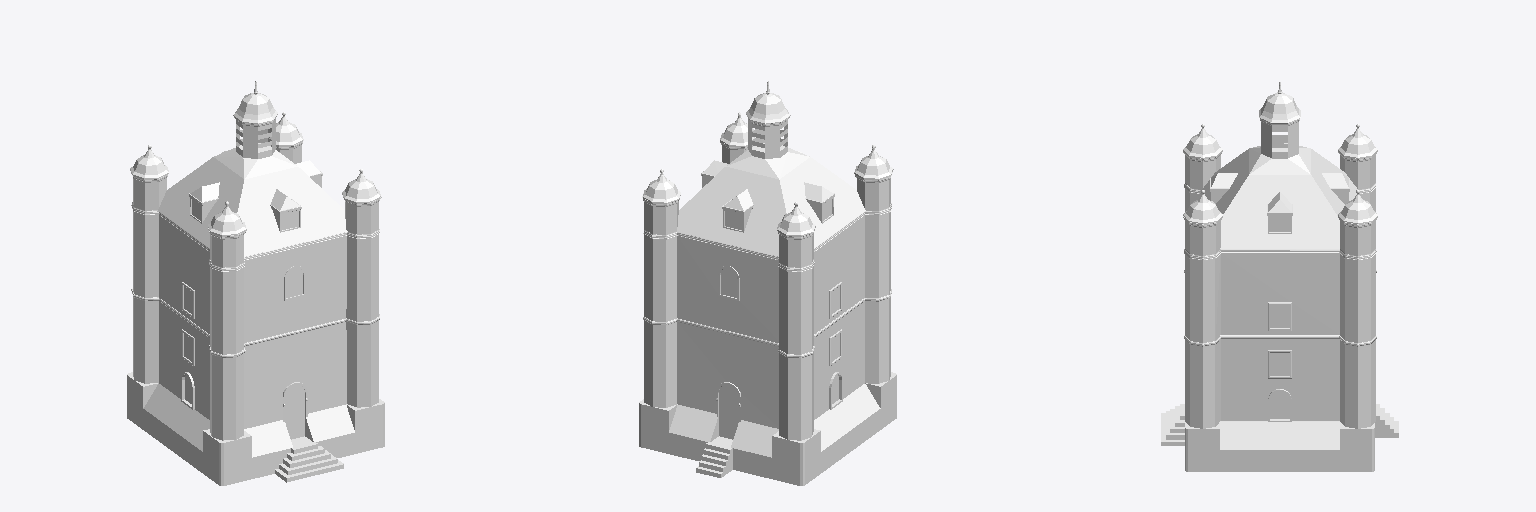
File: Castle.obj
3 views of the same model, side by side, from view 1: azimuth 30°, elevation 25°; view 2: azimuth 150°, elevation 25°; view 3: azimuth 270°, elevation 25° (orthographic).
Parts seen in each view (by area): view 1: Mesh_Object; view 2: Mesh_Object; view 3: Mesh_Object.
Boxes of the visible parts, x1=… form: Mesh_Object: x1=127, y1=81, x2=384, y2=485; Mesh_Object: x1=639, y1=81, x2=896, y2=485; Mesh_Object: x1=1161, y1=82, x2=1398, y2=471.
Size of the model in its own units: 823 by 1627 by 1000.